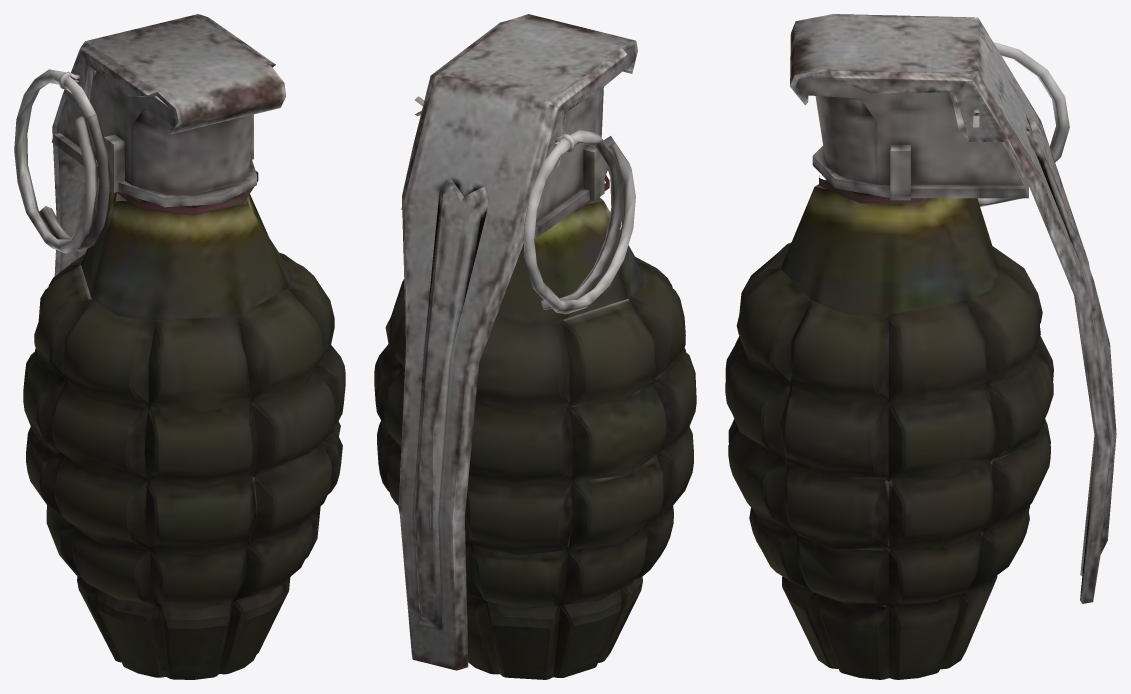
Rendered from frag.glb.
3 views of the same model, side by side, from view 1: azimuth 30°, elevation 25°; view 2: azimuth 150°, elevation 25°; view 3: azimuth 270°, elevation 25° (orthographic). The views are drawn at different scales.
Visible parts, largest first — view 1: grenadeBody_low002_grenade2_0, grenadeCocking_low001_grenade2_0, grenadeHead_low001_grenade2_0, grenadePinspring_low001_grenade2_0, grenadeSeal_low001_grenade2_0; view 2: grenadeBody_low002_grenade2_0, grenadeCocking_low001_grenade2_0, grenadePinspring_low001_grenade2_0, grenadeHead_low001_grenade2_0; view 3: grenadeBody_low002_grenade2_0, grenadeCocking_low001_grenade2_0, grenadeHead_low001_grenade2_0, grenadePinspring_low001_grenade2_0, grenadeSeal_low001_grenade2_0.
Part boxes in pixels (x1,y1,x2,y2): grenadeBody_low002_grenade2_0: (23,191,345,679); grenadeCocking_low001_grenade2_0: (52,14,285,275); grenadeHead_low001_grenade2_0: (51,71,256,207); grenadePinspring_low001_grenade2_0: (14,69,110,253); grenadeSeal_low001_grenade2_0: (116,171,258,215); grenadeBody_low002_grenade2_0: (374,197,696,679); grenadeCocking_low001_grenade2_0: (399,14,637,670); grenadePinspring_low001_grenade2_0: (523,130,635,314); grenadeHead_low001_grenade2_0: (401,46,634,239); grenadeBody_low002_grenade2_0: (725,179,1053,679); grenadeCocking_low001_grenade2_0: (790,14,1116,603); grenadeHead_low001_grenade2_0: (799,75,1028,200); grenadePinspring_low001_grenade2_0: (977,42,1069,206); grenadeSeal_low001_grenade2_0: (819,175,925,203).
Bounding box in the file's own units: 0.0924 × 0.1878 × 0.11.
1 material, 1 textured.
